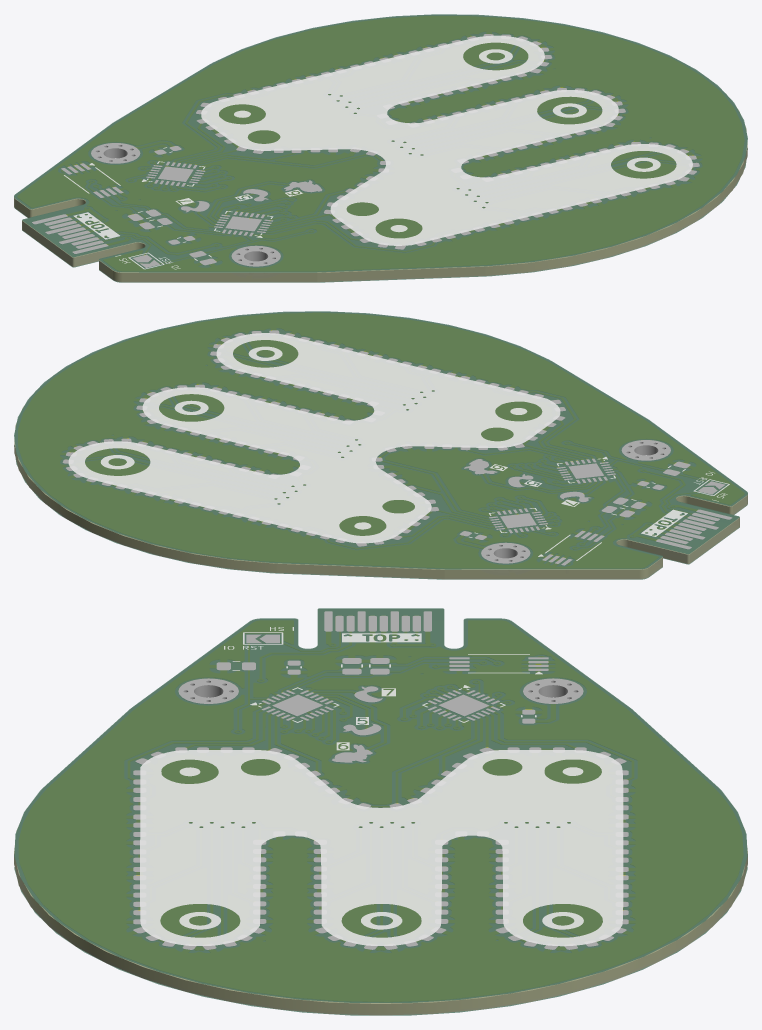
The model's file is maker-space-badge-hexpansion.glb.
The picture shows the model from 3 angles, top to bottom: view 1: azimuth 30°, elevation 25°; view 2: azimuth 150°, elevation 25°; view 3: azimuth 270°, elevation 25°; orthographic projection. The views are drawn at different scales.
Visible parts, largest first — view 1: =>[0:1:1:7], =>[0:1:1:2], =>[0:1:1:5], =>[0:1:1:9]; view 2: =>[0:1:1:7], =>[0:1:1:2], =>[0:1:1:5], =>[0:1:1:9]; view 3: =>[0:1:1:7], =>[0:1:1:2], =>[0:1:1:5], =>[0:1:1:9].
Part boxes in pixels (x1=…): =>[0:1:1:7]: x1=14, y1=14, x2=747, y2=282; =>[0:1:1:2]: x1=18, y1=16, x2=743, y2=270; =>[0:1:1:5]: x1=64, y1=35, x2=692, y2=269; =>[0:1:1:9]: x1=14, y1=15, x2=747, y2=282; =>[0:1:1:7]: x1=14, y1=311, x2=747, y2=579; =>[0:1:1:2]: x1=18, y1=313, x2=743, y2=567; =>[0:1:1:5]: x1=68, y1=333, x2=729, y2=560; =>[0:1:1:9]: x1=14, y1=312, x2=747, y2=579; =>[0:1:1:7]: x1=14, y1=608, x2=747, y2=1015; =>[0:1:1:2]: x1=19, y1=611, x2=742, y2=1001; =>[0:1:1:5]: x1=140, y1=627, x2=623, y2=946; =>[0:1:1:9]: x1=14, y1=609, x2=747, y2=1015.
Size of the model in its own units: 0.0678 by 0.00106 by 0.0532.
4 materials, 4 textured.
